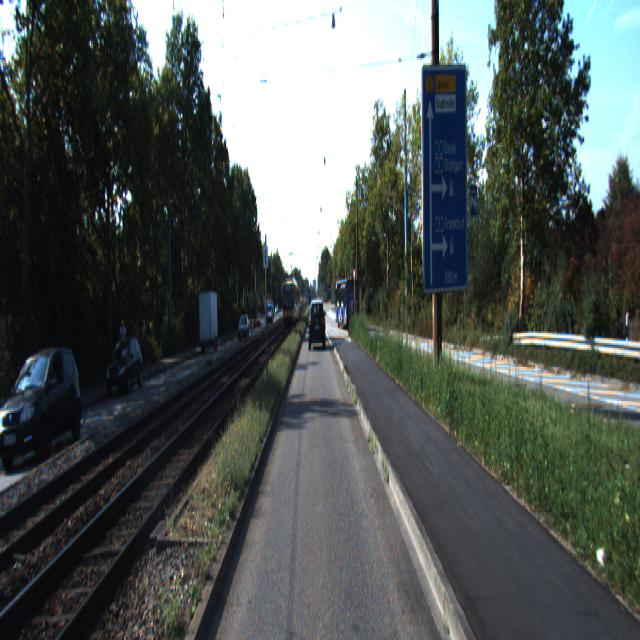Car: (0, 343, 89, 473), (106, 336, 144, 398), (334, 278, 361, 330), (198, 291, 218, 354), (309, 298, 325, 347)
